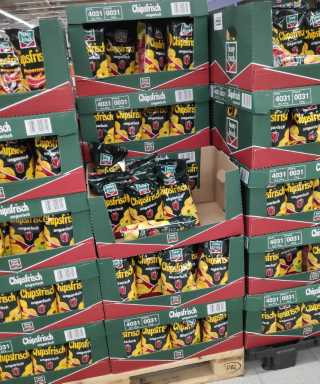chipsfrisch: (154, 157, 202, 227), (87, 171, 128, 237), (127, 175, 165, 229), (138, 20, 166, 76), (80, 23, 107, 80), (108, 23, 135, 80), (200, 239, 232, 287), (162, 245, 194, 292), (169, 18, 194, 71), (290, 105, 320, 146), (136, 254, 162, 296), (21, 285, 55, 317), (55, 279, 85, 312), (33, 346, 68, 373), (287, 180, 312, 216), (169, 103, 196, 136), (116, 109, 140, 141), (276, 304, 301, 333)
